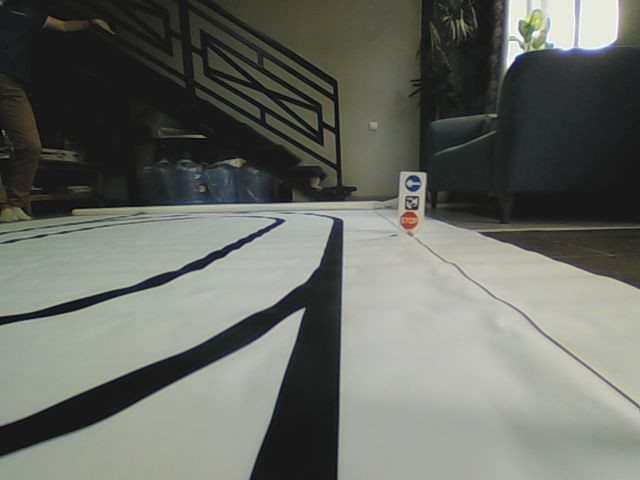Stop: (399, 211, 419, 230)
